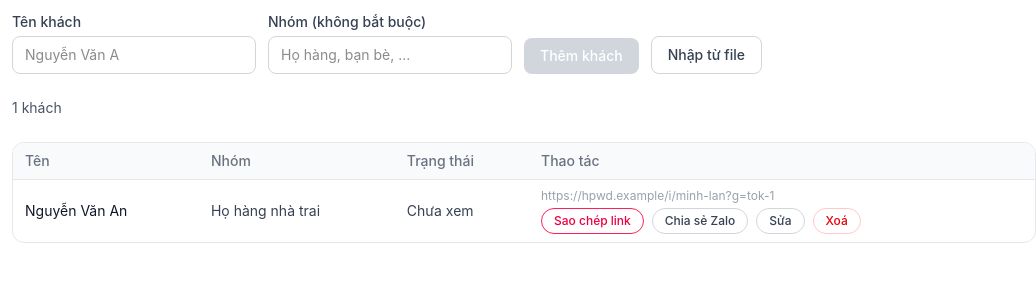
GuestTable › khôi phục dòng khi DELETE thất bại (rollback)
Step 1. Click the button "Xoá" → coordinates (837, 221), box [812, 208, 861, 234]
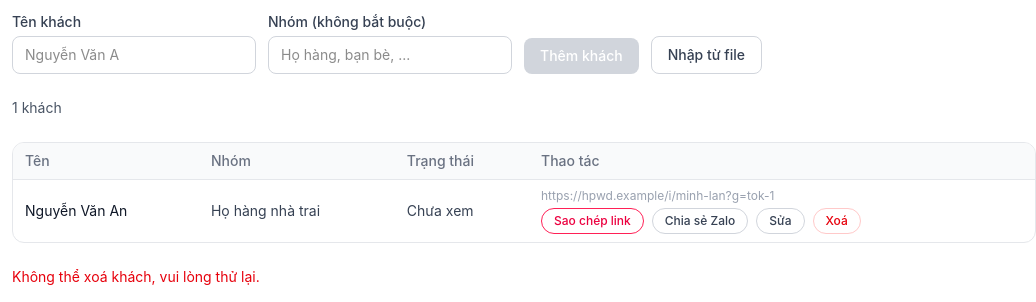
Expected: the text "Nguyễn Văn An" is shown, [13, 180, 199, 242]
Now the text "Không thể xoá khách, vui lòng thử lại." is shown, box [12, 268, 260, 285]
